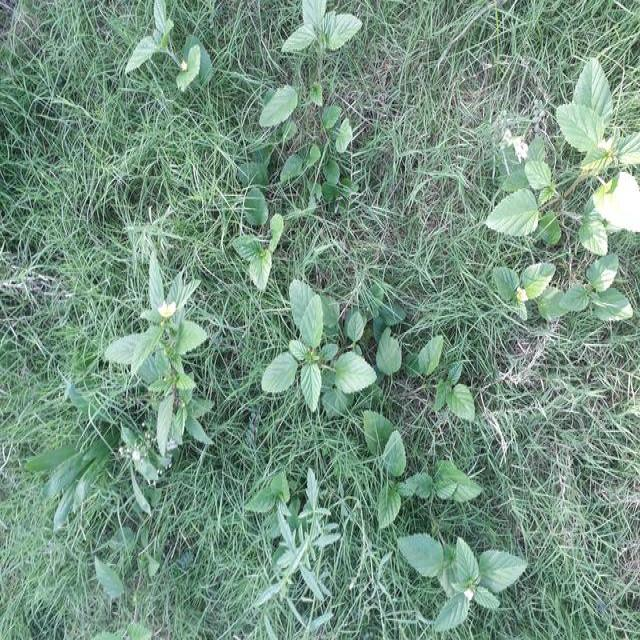weed: (512, 149, 634, 330), (125, 269, 223, 459), (543, 53, 640, 243), (266, 272, 368, 416), (382, 532, 523, 634), (374, 330, 478, 437), (256, 486, 331, 625), (124, 0, 208, 122), (285, 0, 352, 123), (230, 180, 290, 294), (364, 418, 426, 503)
